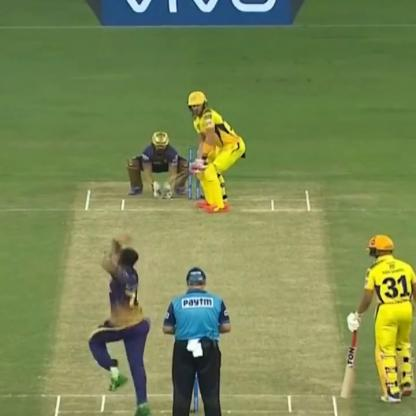pitch: (47, 182, 355, 416)
